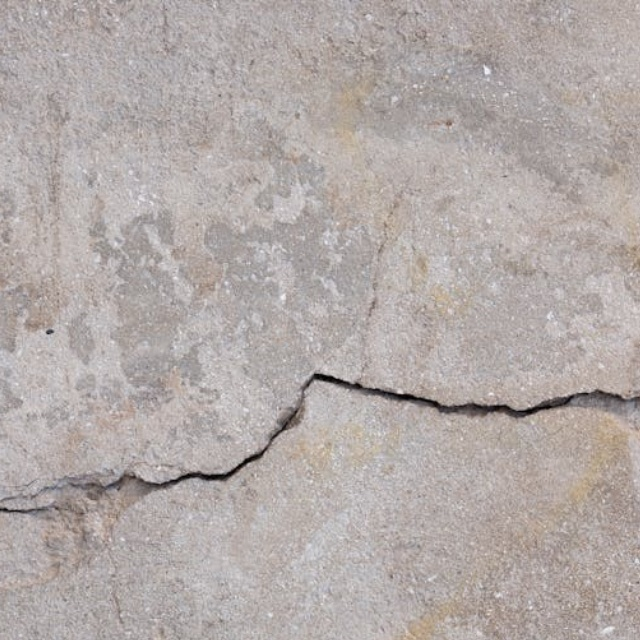细微裂纹: (0, 304, 640, 557)
